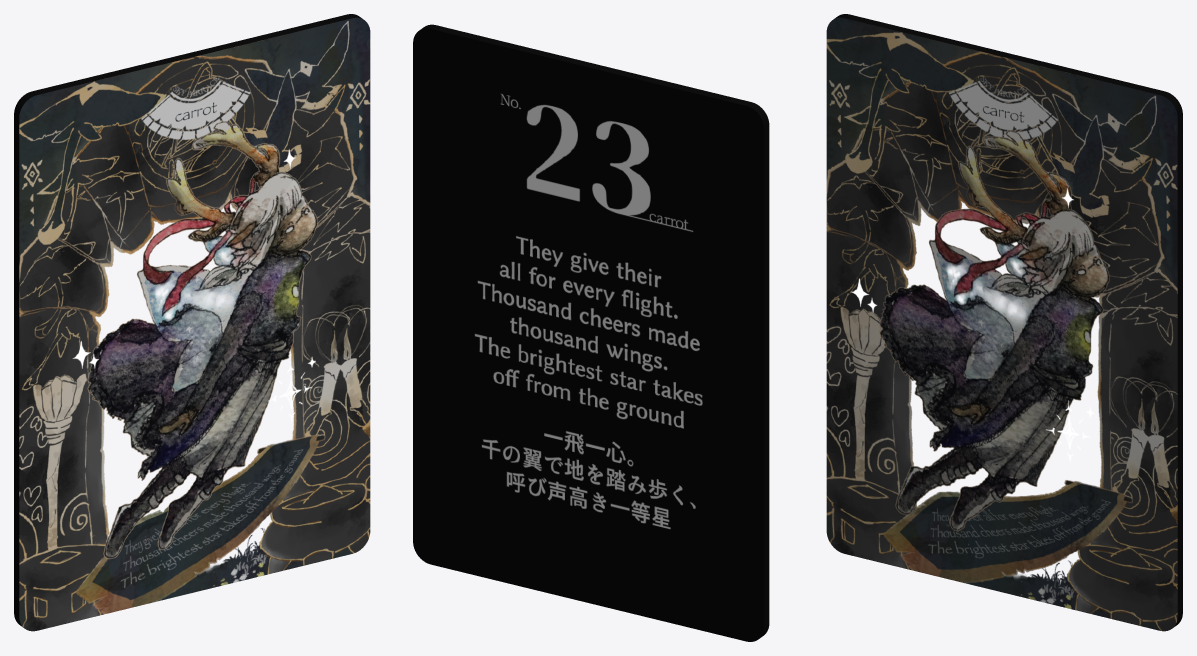
The model's file is 23_carrot.glb.
3 views of the same model, side by side, from view 1: azimuth 30°, elevation 25°; view 2: azimuth 150°, elevation 25°; view 3: azimuth 330°, elevation 25° (orthographic).
Parts seen in each view (by area): view 1: きらきら; view 2: きらきら; view 3: きらきら.
Boxes of the visible parts, x1,y1,x2,y2 form: きらきら: [14, 14, 370, 631]; きらきら: [413, 24, 769, 641]; きらきら: [826, 14, 1182, 631].
Bounding box in the file's own units: 0.236 × 0.344 × 0.023.
Materials: 5 (4 with a texture image).
